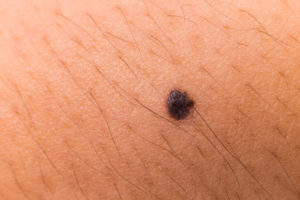melanoma: (149, 75, 207, 127)
